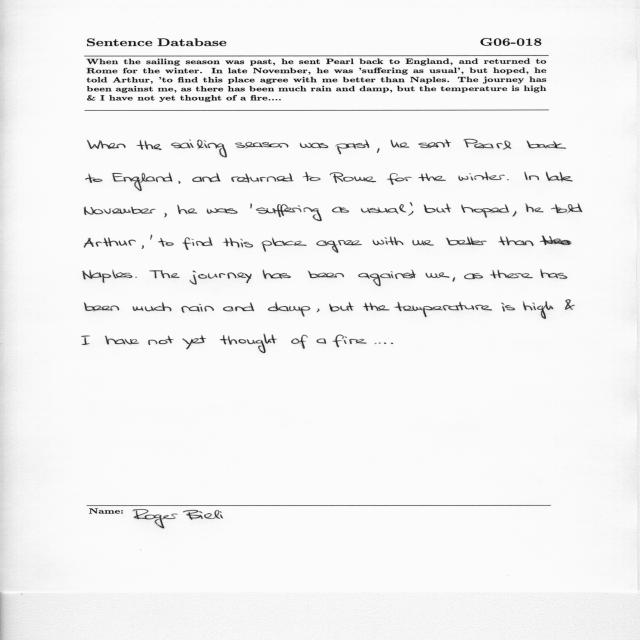word: (394, 302, 492, 317), (112, 172, 173, 191), (256, 204, 322, 221), (220, 334, 277, 353), (171, 140, 227, 158), (358, 270, 416, 286), (190, 271, 252, 285), (498, 235, 572, 246), (262, 237, 307, 252), (461, 204, 509, 218), (83, 270, 133, 283), (361, 204, 414, 216), (231, 173, 294, 183), (268, 302, 310, 317), (316, 240, 362, 253), (84, 207, 156, 215), (523, 301, 553, 319), (84, 238, 136, 248), (330, 172, 376, 183), (463, 139, 511, 149), (336, 140, 369, 154), (333, 335, 367, 348), (458, 172, 505, 181), (183, 237, 213, 250), (446, 237, 487, 246), (527, 140, 567, 149), (87, 140, 126, 149), (133, 302, 172, 311), (490, 270, 533, 278), (183, 335, 207, 349), (235, 142, 288, 148), (85, 302, 120, 311), (551, 203, 582, 213), (105, 336, 139, 345), (387, 173, 412, 185), (223, 238, 253, 248), (418, 139, 451, 148), (181, 304, 214, 313), (373, 237, 404, 246), (223, 303, 254, 312), (546, 172, 573, 182), (541, 269, 568, 279), (136, 140, 162, 150), (192, 173, 220, 182), (263, 270, 291, 279), (308, 271, 344, 278), (329, 302, 354, 312), (363, 302, 390, 311), (150, 270, 180, 278), (291, 335, 308, 349), (148, 336, 174, 345), (418, 173, 446, 181), (177, 205, 197, 214), (207, 208, 237, 214), (525, 204, 544, 213), (303, 172, 321, 181), (86, 174, 103, 183), (391, 140, 410, 148), (158, 238, 174, 247), (426, 272, 450, 278), (300, 143, 328, 148), (437, 204, 452, 213), (412, 240, 434, 246), (501, 303, 515, 312), (524, 172, 539, 180), (423, 204, 436, 213), (464, 273, 483, 279), (565, 299, 575, 310), (332, 207, 349, 213), (82, 335, 91, 345), (317, 338, 326, 344), (513, 211, 517, 217), (375, 343, 386, 345), (164, 213, 167, 217), (251, 203, 253, 209), (317, 308, 320, 312), (377, 148, 379, 153), (151, 235, 153, 240), (453, 277, 455, 282), (178, 181, 181, 184), (410, 203, 412, 207), (142, 245, 144, 249), (507, 179, 509, 180), (135, 277, 137, 278), (391, 343, 393, 344)
